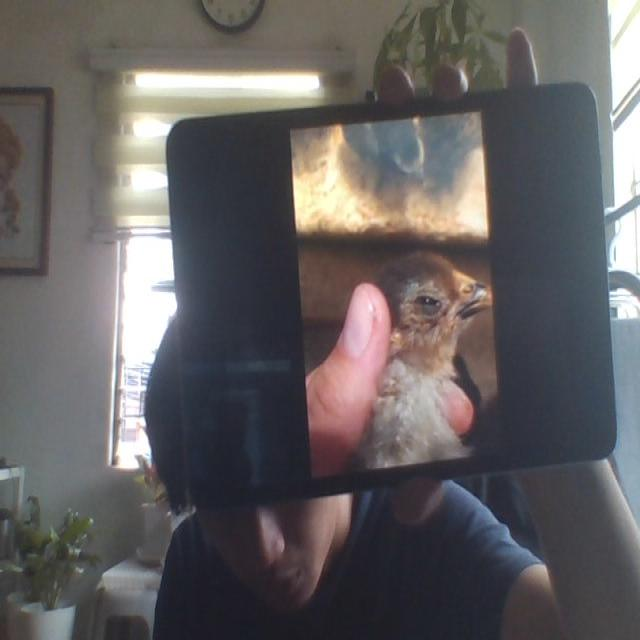Sick: (372, 247, 488, 469)
